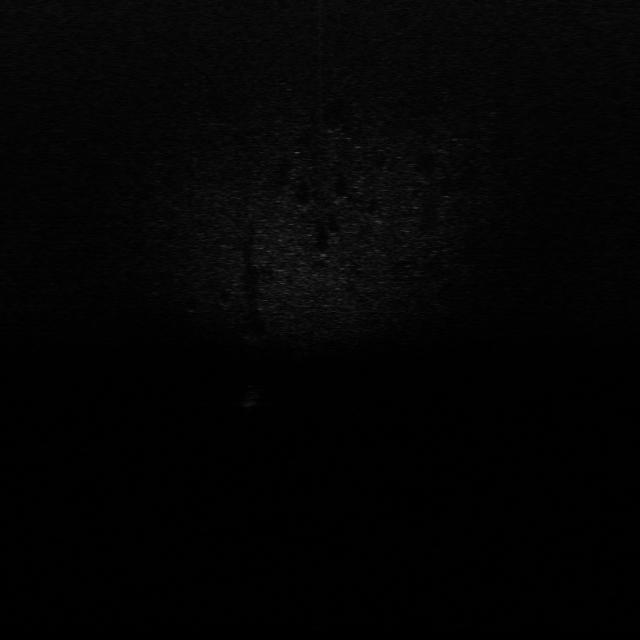human body: (234, 378, 270, 423)
